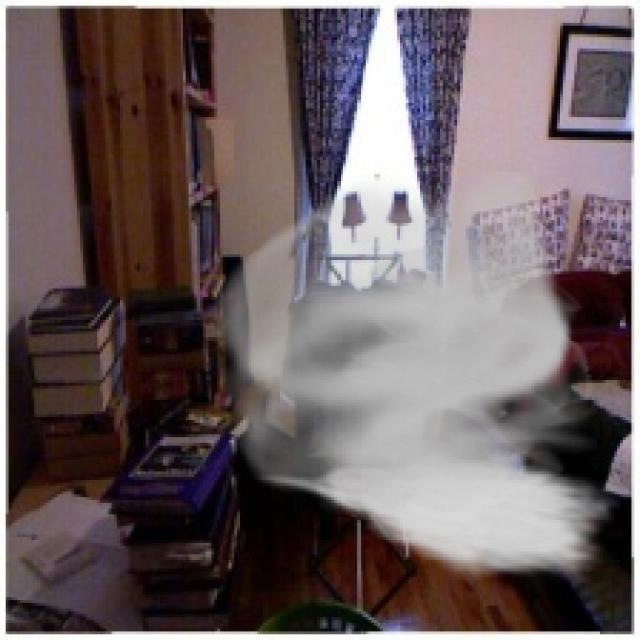Smoke: (203, 168, 620, 583)
